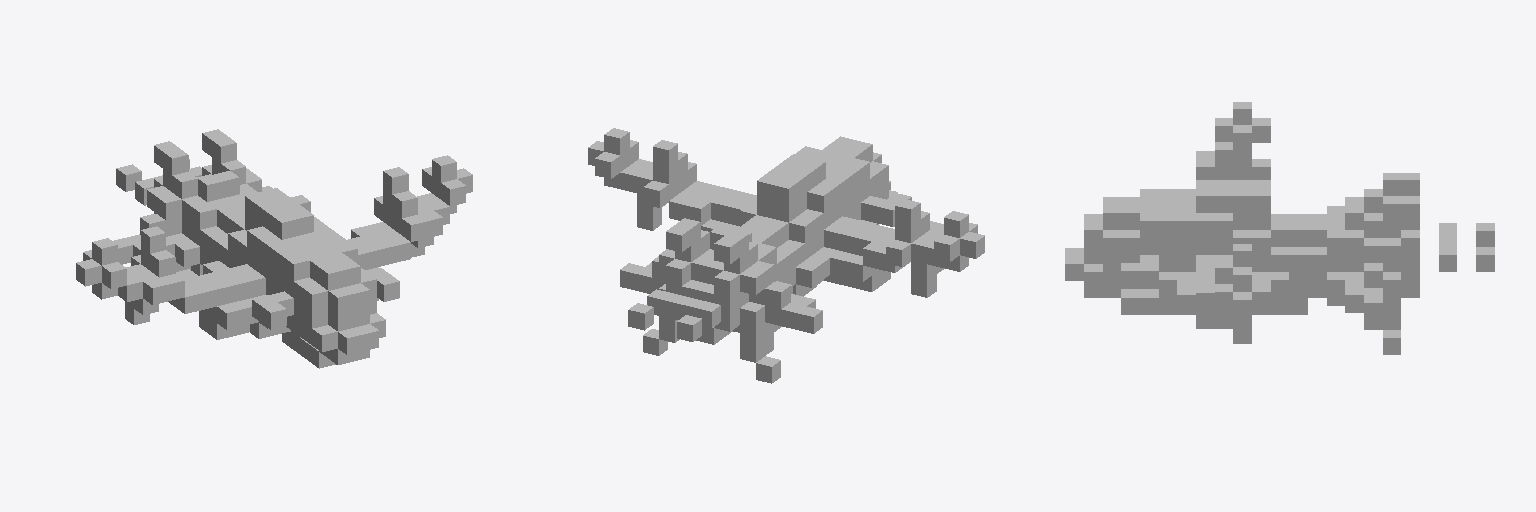
File: MicroRecon.obj
3 renders of one model, left to right at view 1: azimuth 30°, elevation 25°; view 2: azimuth 150°, elevation 25°; view 3: azimuth 270°, elevation 25°, orthographic.
Parts seen in each view (by area): view 1: Untitled; view 2: Untitled; view 3: Untitled.
Part boxes in pixels (x1,y1,x2,y2): Untitled: (76, 129, 472, 368); Untitled: (588, 128, 984, 383); Untitled: (1065, 102, 1494, 354).
Bounding box in the file's own units: 2.4 × 0.8 × 2.3.